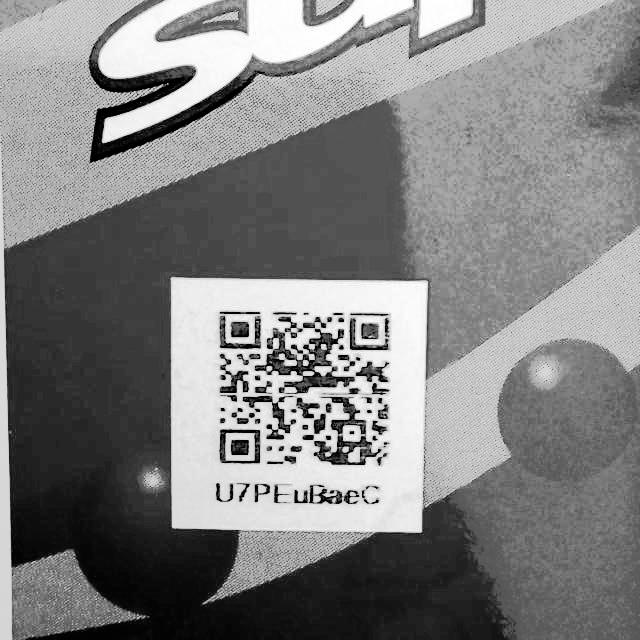qr_code: (207, 298, 399, 472)
